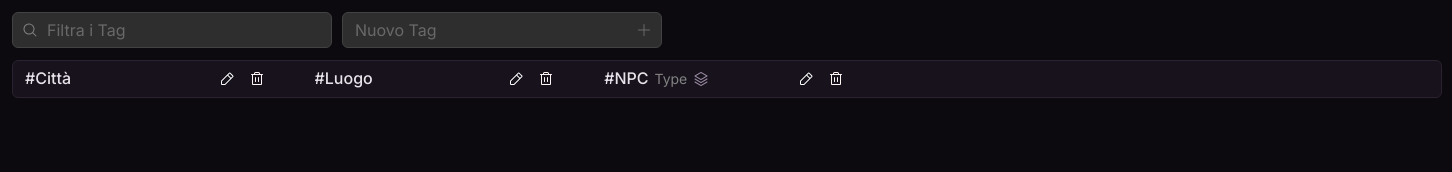
Test: AllTagsList › renaming a Tag › edits one row at a time
Click the button named "Rinomina il Tag Luogo" at (516, 79), box x1=502 y1=65 x2=530 y2=93
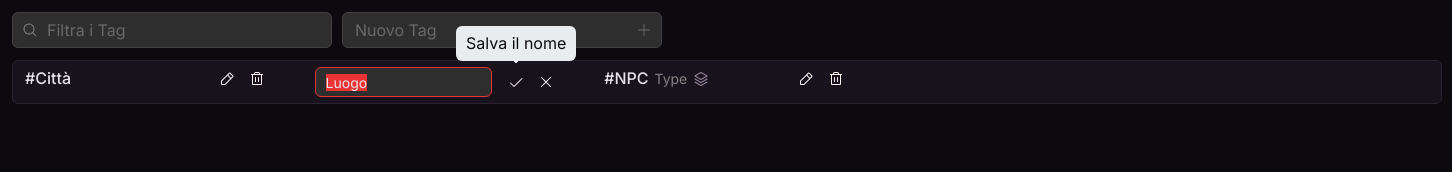
Click the button named "Rinomina il Tag NPC" at (806, 79), box x1=792 y1=65 x2=820 y2=93
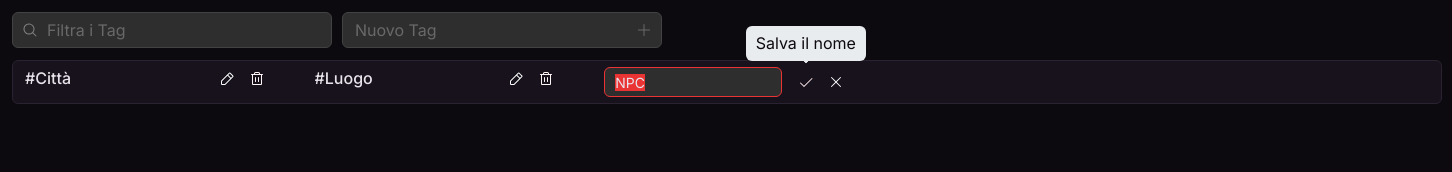
Check: the field named "Nuovo nome per NPC" is shown, box x1=604 y1=67 x2=782 y2=97
